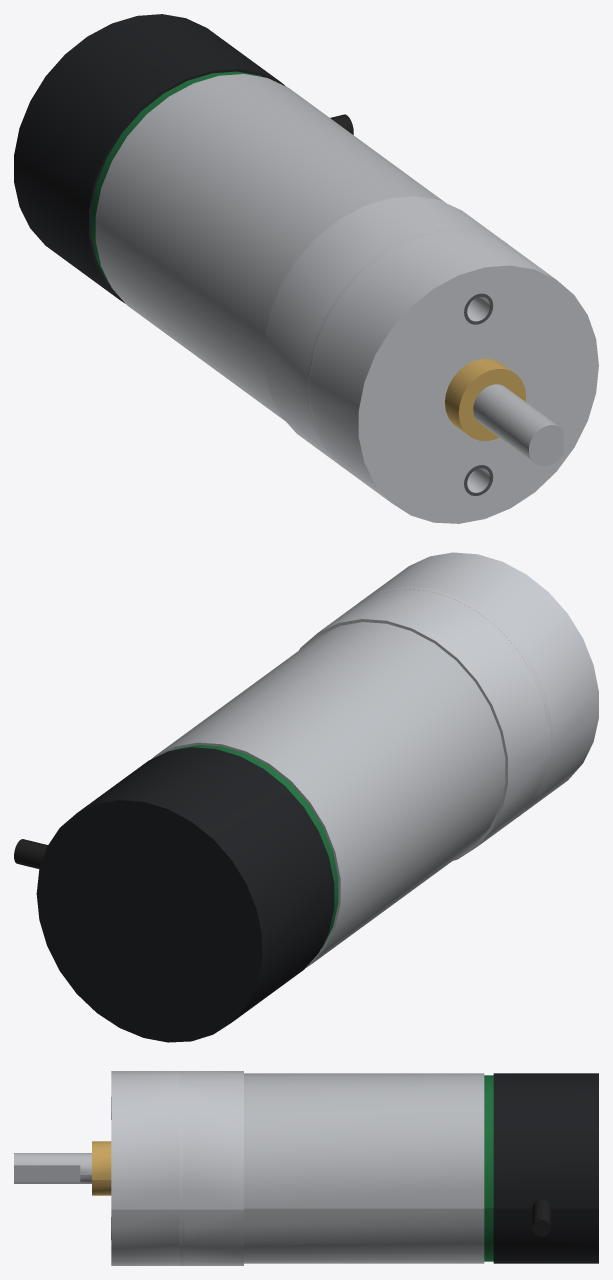
Rendered from pololu-4861-4-4-1-25d-enc.glb.
3 views of the same model, one above another, from view 1: azimuth 30°, elevation 25°; view 2: azimuth 150°, elevation 25°; view 3: azimuth 270°, elevation 25° (orthographic). The views are drawn at different scales.
Visible parts, largest first — view 1: gearbox, body, encoder_cap, shaft, bushing, encoder_board; view 2: encoder_cap, body, gearbox, encoder_board, encoder_cable; view 3: body, gearbox, encoder_cap, shaft, encoder_board, bushing, encoder_cable.
Part boxes in pixels (box(x1,y1,x2,y2)): gearbox: box(264, 196, 598, 523); body: box(95, 74, 445, 421); encoder_cap: box(14, 14, 285, 303); shaft: box(473, 384, 563, 466); bushing: box(445, 358, 525, 440); encoder_board: box(91, 71, 262, 283); encoder_cap: box(36, 747, 334, 1042); body: box(152, 622, 505, 968); gearbox: box(299, 552, 598, 860); encoder_board: box(174, 745, 338, 948); encoder_cable: box(14, 839, 47, 868); body: box(244, 1073, 484, 1263); gearbox: box(111, 1071, 243, 1265); encoder_cap: box(493, 1073, 598, 1263); shaft: box(14, 1153, 91, 1183); encoder_board: box(484, 1075, 493, 1261); bushing: box(92, 1141, 111, 1195); encoder_cable: box(532, 1200, 550, 1236).
Size of the model in its own units: 30.64 by 24.98 by 75.
